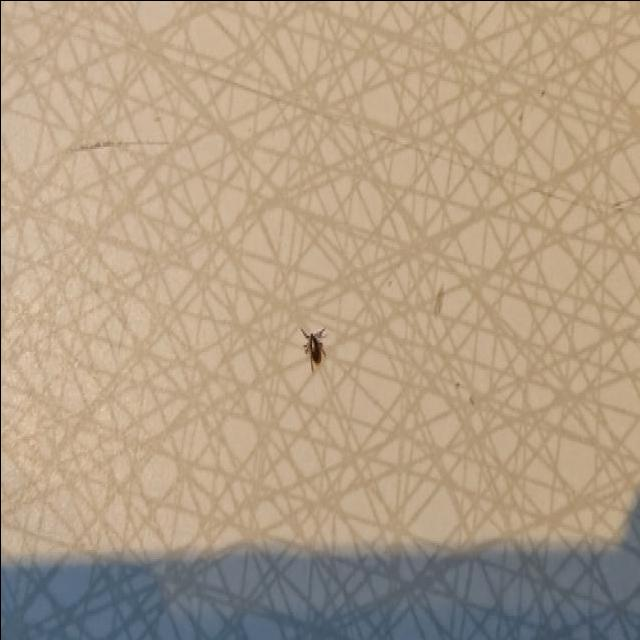Ixodes Ricinus-M: (296, 321, 329, 374)
